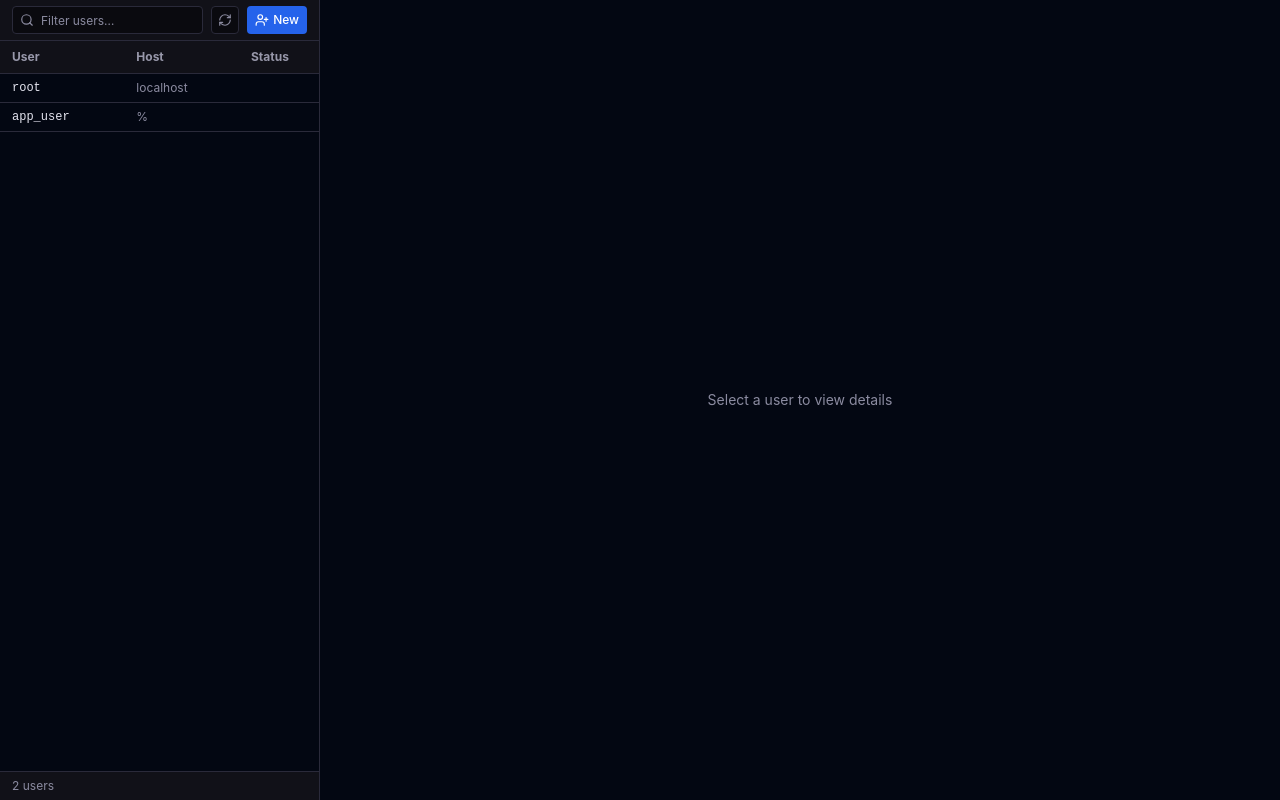
Test: UserManagement › filters users by search
The image size is (1280, 800).
Expected: the text "root" is shown, [0, 74, 124, 102]
Type "app" into the field with placeholder "Filter users…". click: [108, 20]
box: [12, 6, 203, 34]
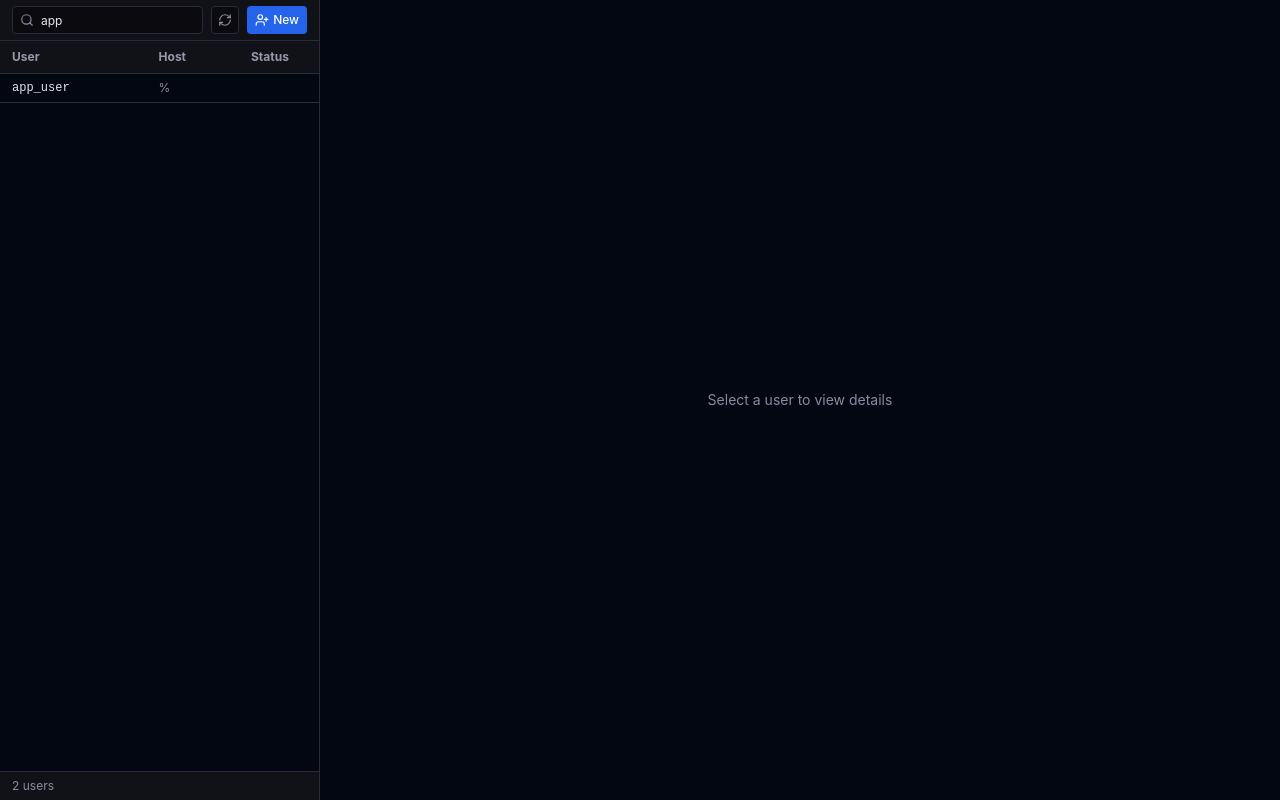
Expected: the text "app_user" is shown, [0, 74, 147, 102]
Expected: the text "root" is gone
